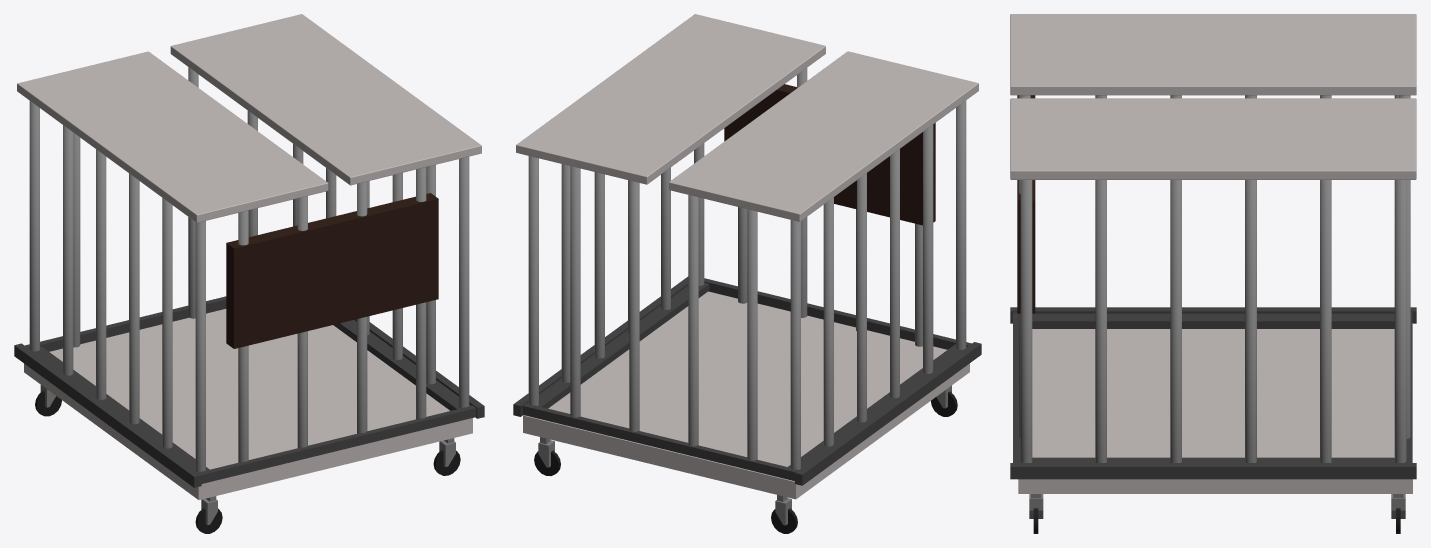
File: basketball_cage.fbx
The picture shows the model from 3 angles, left to right: view 1: azimuth 30°, elevation 25°; view 2: azimuth 150°, elevation 25°; view 3: azimuth 270°, elevation 25°; orthographic projection. The views are drawn at different scales.
Visible parts, largest first — view 1: Cube.004, Cube.006, Cube.008, Cylinder, Cylinder.001, Cube.001, Cube.003, Cube.002; view 2: Cube.004, Cube.006, Cylinder, Cylinder.001, Cube.001, Cube.008, Cube.003, Cube.002; view 3: Cube.004, Cube.006, Cylinder, Cube.003, Cube.002, Cylinder.001, Cube.001, Cube.008.
Boxes of the visible parts, bbox=[...] form: Cube.004: bbox=[17, 14, 481, 222]; Cube.006: bbox=[24, 309, 472, 499]; Cube.008: bbox=[226, 193, 438, 348]; Cylinder: bbox=[29, 101, 469, 472]; Cylinder.001: bbox=[73, 67, 426, 462]; Cube.001: bbox=[25, 296, 476, 483]; Cube.003: bbox=[14, 319, 484, 487]; Cube.002: bbox=[32, 320, 471, 470]; Cube.004: bbox=[516, 14, 978, 221]; Cube.006: bbox=[523, 291, 969, 499]; Cylinder: bbox=[528, 100, 966, 469]; Cylinder.001: bbox=[570, 68, 922, 460]; Cube.001: bbox=[522, 278, 971, 480]; Cube.008: bbox=[724, 84, 935, 225]; Cube.003: bbox=[513, 276, 981, 485]; Cube.002: bbox=[527, 282, 966, 468]; Cube.004: bbox=[1010, 14, 1416, 179]; Cube.006: bbox=[1018, 323, 1412, 493]; Cylinder: bbox=[1020, 95, 1406, 462]; Cube.003: bbox=[1010, 307, 1416, 479]; Cube.002: bbox=[1032, 313, 1394, 462]; Cylinder.001: bbox=[1018, 95, 1410, 438]; Cube.001: bbox=[1013, 312, 1412, 462]; Cube.008: bbox=[1017, 95, 1035, 313].
Bounding box in the file's own units: 605 × 661 × 649.
